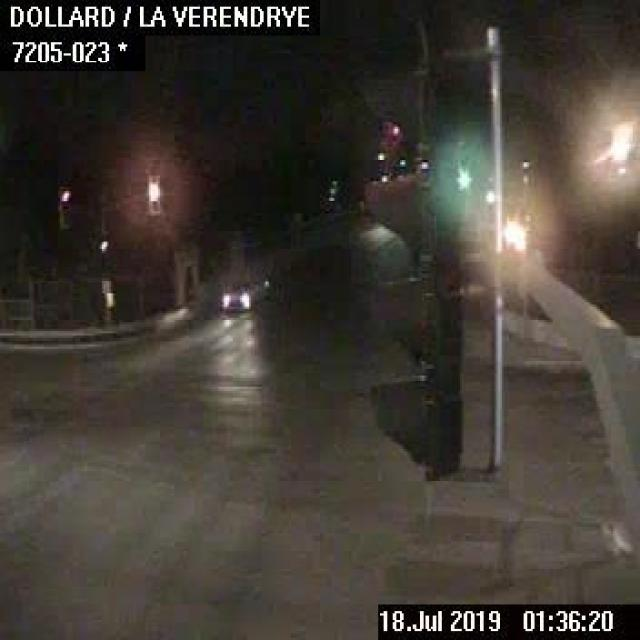vehicle: (218, 271, 272, 309)
